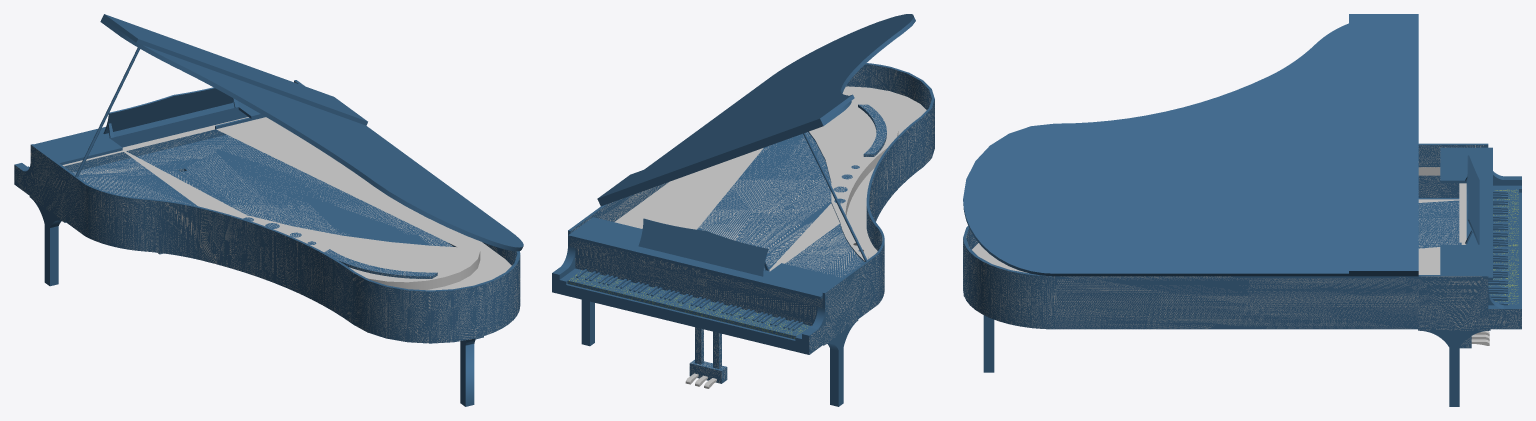
3 views of the same model, side by side, from view 1: azimuth 30°, elevation 25°; view 2: azimuth 150°, elevation 25°; view 3: azimuth 270°, elevation 25° (orthographic). The views are drawn at different scales.
Visible parts, largest first — view 1: mesh1_mesh1-geometry; view 2: mesh1_mesh1-geometry; view 3: mesh1_mesh1-geometry.
Part boxes in pixels (left/top/right/bottom): mesh1_mesh1-geometry: left=14, top=14, right=523, bottom=406; mesh1_mesh1-geometry: left=552, top=14, right=934, bottom=406; mesh1_mesh1-geometry: left=963, top=14, right=1521, bottom=406.
Bounding box in the file's own units: 0.4463 × 0.433 × 0.7831.
